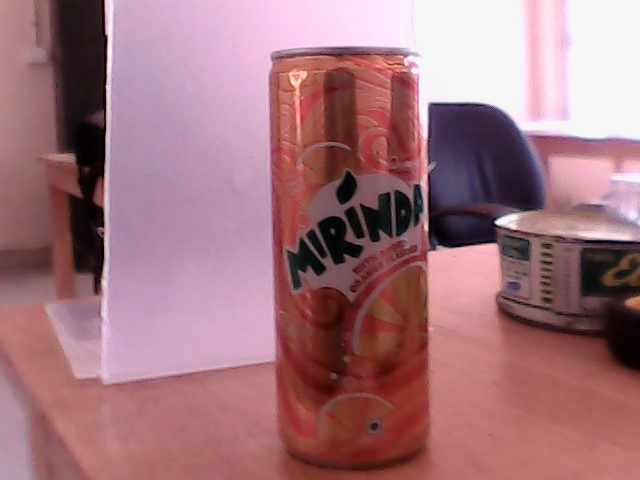Metal: (250, 47, 468, 480)
